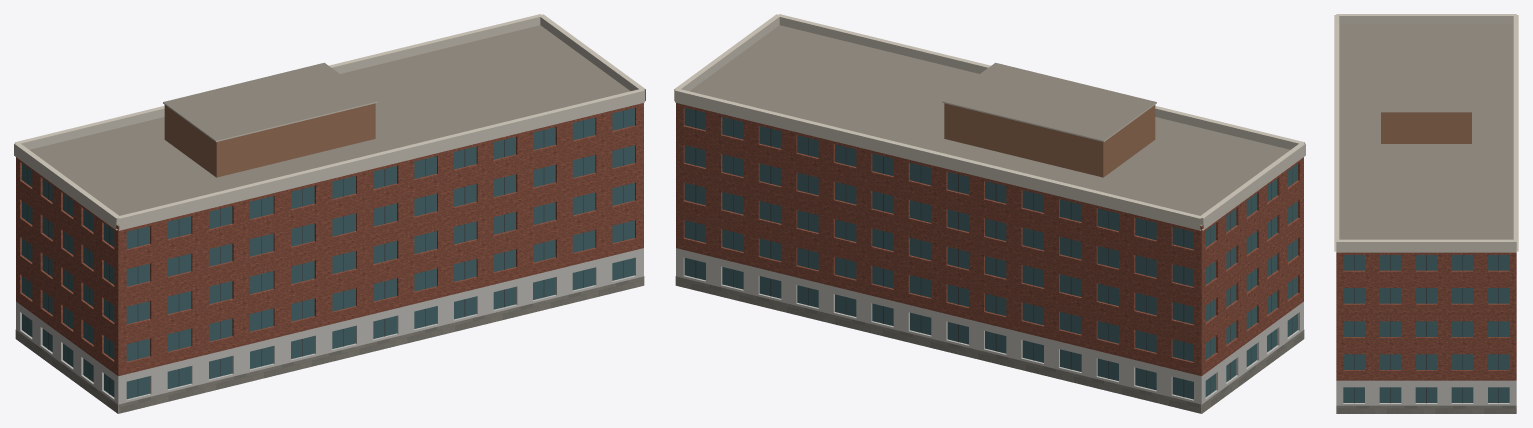
The picture shows the model from 3 angles, left to right: view 1: azimuth 30°, elevation 25°; view 2: azimuth 150°, elevation 25°; view 3: azimuth 270°, elevation 25°; orthographic projection. The views are drawn at different scales.
Parts seen in each view (by area): view 1: media__wall, media__roof, media__glass, media__trim, media__stoneBase, media__wall2, media__base, media__frame; view 2: media__wall, media__roof, media__glass, media__trim, media__stoneBase, media__wall2, media__base, media__frame; view 3: media__roof, media__wall, media__glass, media__trim, media__stoneBase, media__wall2, media__base, media__frame.
Boxes of the visible parts, <box> form: media__wall: <box>16,103,643,376</box>; media__roof: <box>29,25,630,413</box>; media__glass: <box>22,108,634,399</box>; media__trim: <box>14,14,645,230</box>; media__stoneBase: <box>16,248,643,413</box>; media__wall2: <box>164,103,375,177</box>; media__base: <box>15,276,644,413</box>; media__frame: <box>27,110,623,396</box>; media__wall: <box>676,103,1303,376</box>; media__roof: <box>689,25,1289,413</box>; media__glass: <box>684,108,1297,399</box>; media__trim: <box>674,14,1305,230</box>; media__stoneBase: <box>676,248,1303,413</box>; media__wall2: <box>944,103,1155,177</box>; media__base: <box>675,276,1304,413</box>; media__frame: <box>695,110,1292,397</box>; media__roof: <box>1339,23,1513,239</box>; media__wall: <box>1336,252,1516,380</box>; media__glass: <box>1343,255,1509,402</box>; media__trim: <box>1334,14,1518,252</box>; media__stoneBase: <box>1336,380,1516,405</box>; media__wall2: <box>1381,112,1471,143</box>; media__base: <box>1336,405,1516,413</box>; media__frame: <box>1354,255,1498,403</box>.
Bounding box in the file's own units: 53.22 × 21.62 × 18.21.
8 materials, 2 textured.
